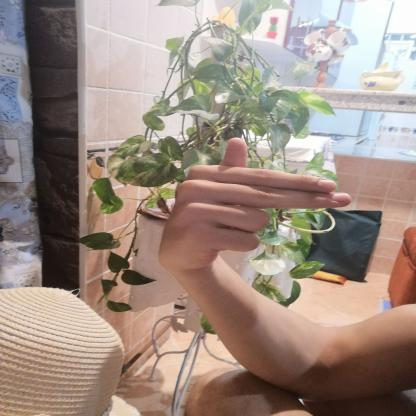GHAYN: (141, 128, 364, 276)
